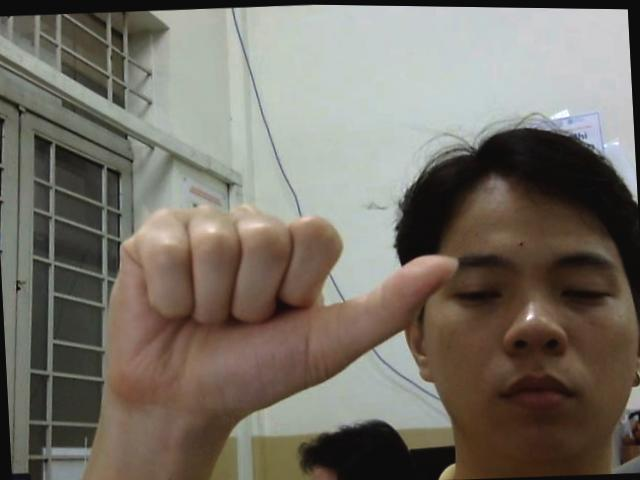A: (88, 187, 462, 415)
